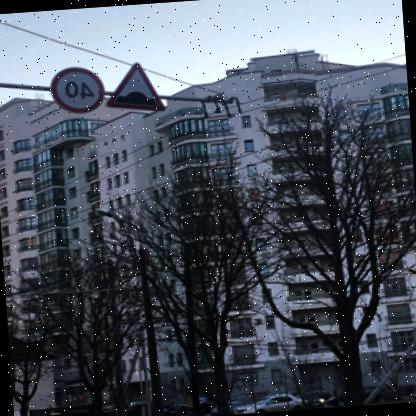speedlimit: (51, 63, 109, 114)
